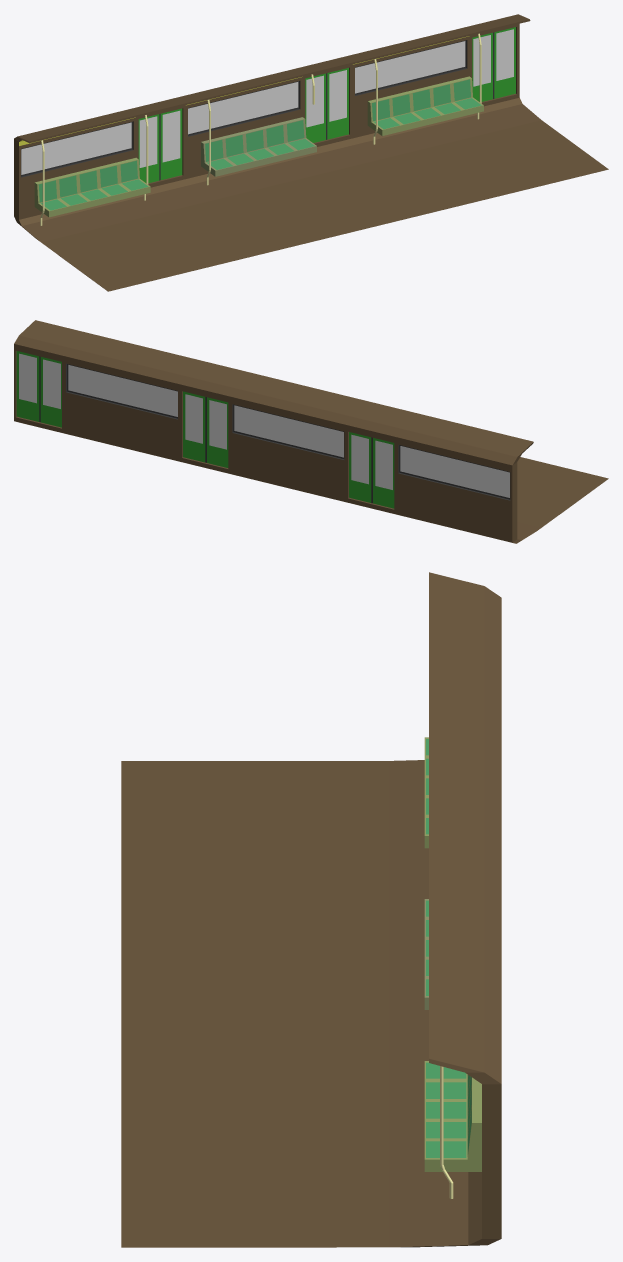
Rendered from metro.partidoblend 2.fbx.
3 views of the same model, one above another, from view 1: azimuth 30°, elevation 25°; view 2: azimuth 150°, elevation 25°; view 3: azimuth 270°, elevation 25° (orthographic). The views are drawn at different scales.
Parts seen in each view (by area): view 1: Cube.002, Cube.020, Cube.001, Cube.014, Cube.015, Cube.017; view 2: Cube.002, Cube.020, Cube.001; view 3: Cube.001, Cube.020, Cube.002, Cube.015.
Part boxes in pixels (left/top/right/bottom): Cube.002: left=14, top=95, right=274, bottom=291; Cube.020: left=185, top=55, right=441, bottom=250; Cube.001: left=352, top=14, right=608, bottom=209; Cube.014: left=34, top=157, right=150, bottom=217; Cube.015: left=367, top=76, right=483, bottom=135; Cube.017: left=201, top=117, right=316, bottom=176; Cube.002: left=346, top=401, right=608, bottom=543; Cube.020: left=180, top=360, right=367, bottom=502; Cube.001: left=14, top=320, right=200, bottom=461; Cube.001: left=121, top=896, right=501, bottom=1247; Cube.020: left=121, top=734, right=501, bottom=1085; Cube.002: left=121, top=572, right=501, bottom=923; Cube.015: left=424, top=1061, right=481, bottom=1171.
Bounding box in the file's own units: 3505 × 625 × 1151.
